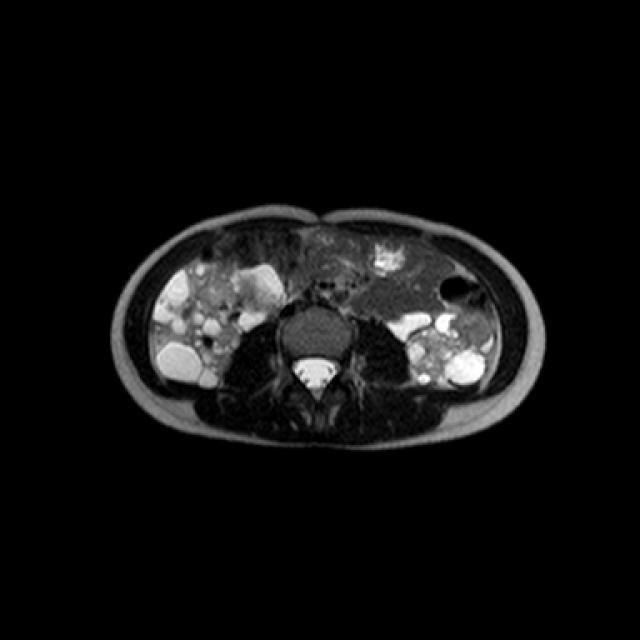sag: (149, 257, 287, 389)
sol: (389, 310, 498, 389)
